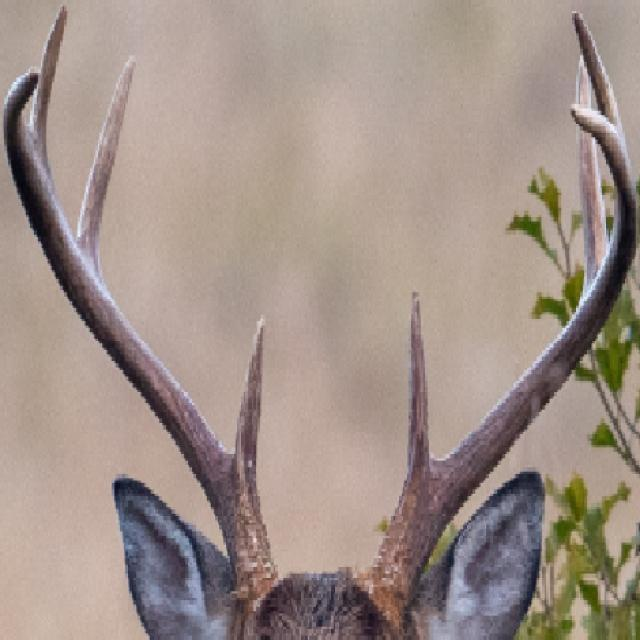L-F: (353, 105, 639, 636)
L-G1: (401, 289, 437, 493)
R-F: (3, 68, 280, 612)
R-G1: (229, 315, 266, 507)
R-G2: (74, 53, 140, 286)
